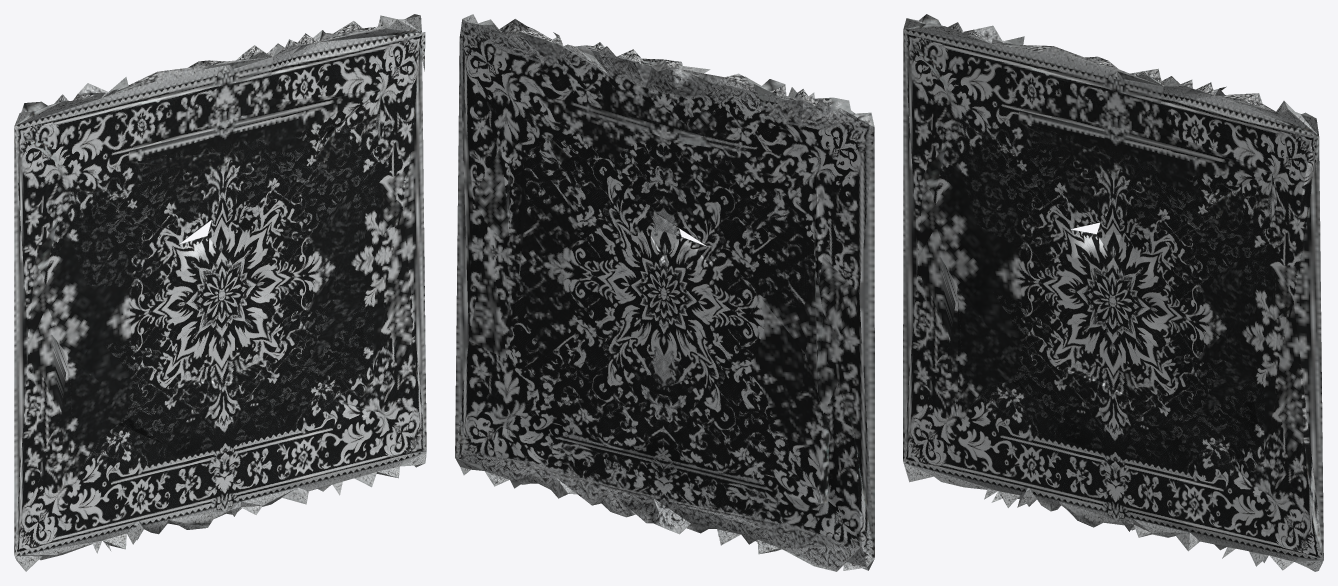
File: Tapis3.fbx
The picture shows the model from 3 angles, left to right: view 1: azimuth 30°, elevation 25°; view 2: azimuth 150°, elevation 25°; view 3: azimuth 330°, elevation 25°; orthographic projection.
Visible parts, largest first — view 1: Mesh_0; view 2: Mesh_0; view 3: Mesh_0.
Boxes of the visible parts, x1,y1,x2,y2 form: Mesh_0: [14, 14, 426, 571]; Mesh_0: [455, 14, 874, 571]; Mesh_0: [903, 14, 1323, 571].
Size of the model in its own units: 177 by 189 by 9.87.
Materials: 1 (1 with a texture image).
